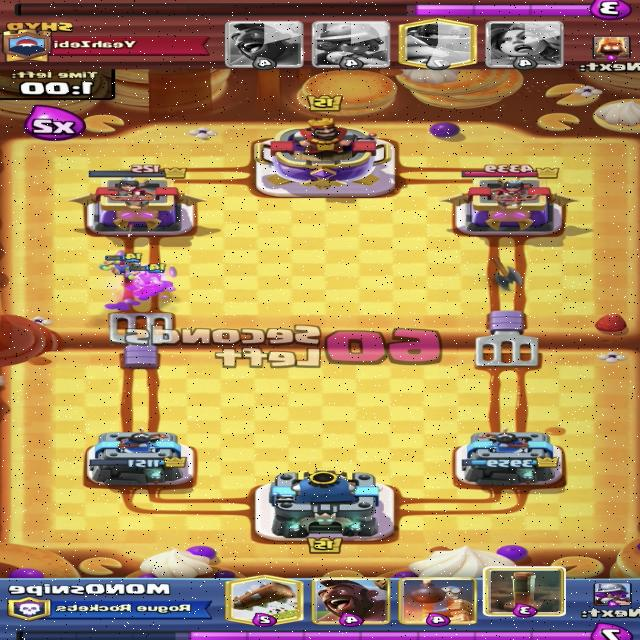Player-Goblin: (98, 251, 144, 281), (125, 263, 170, 292)
